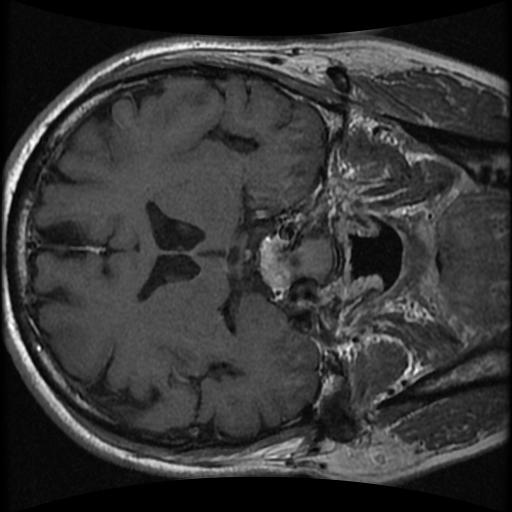pituitary tumour: (260, 236, 290, 295)
